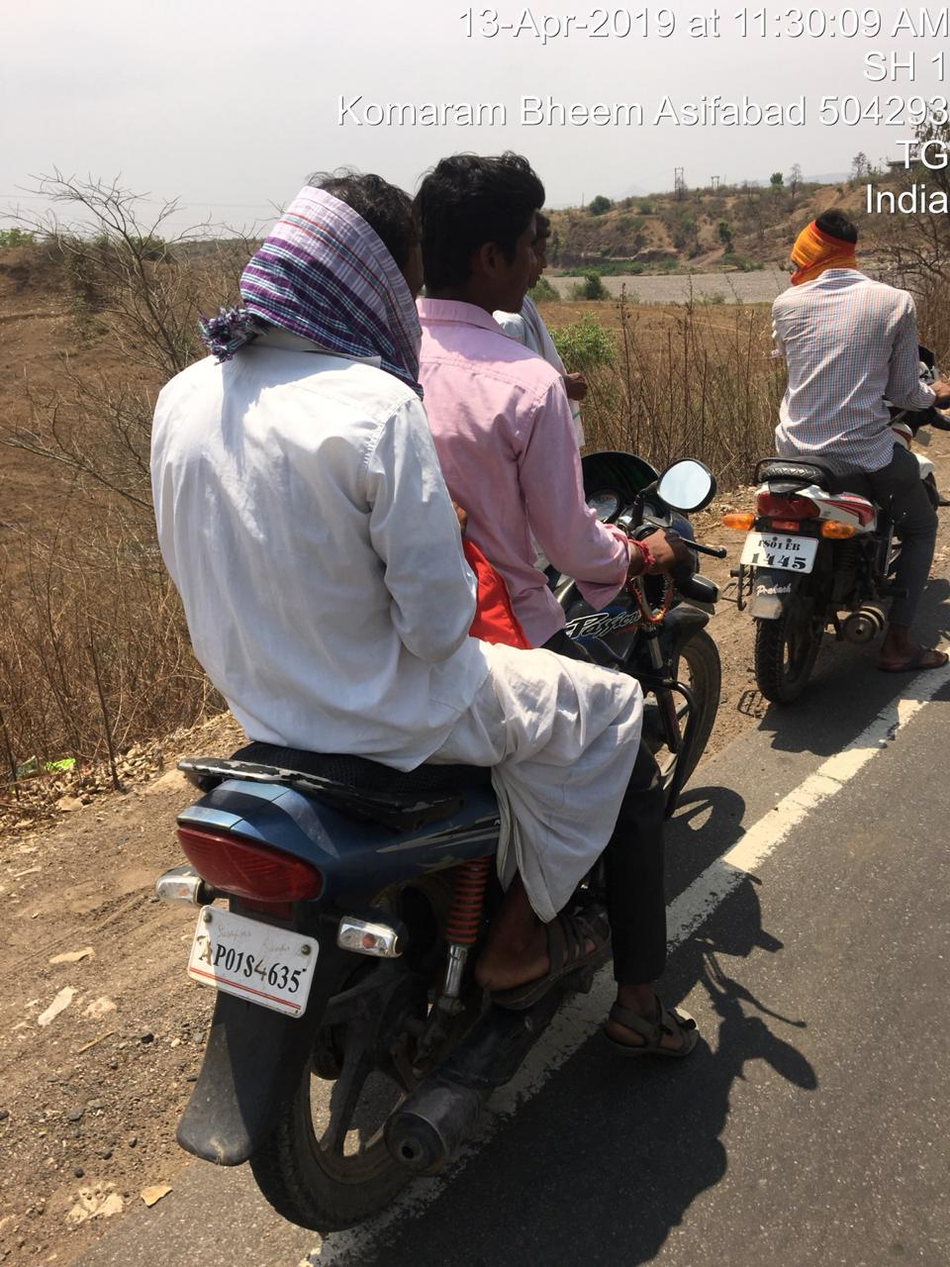plate: (166, 885, 330, 1029), (733, 525, 828, 577)
